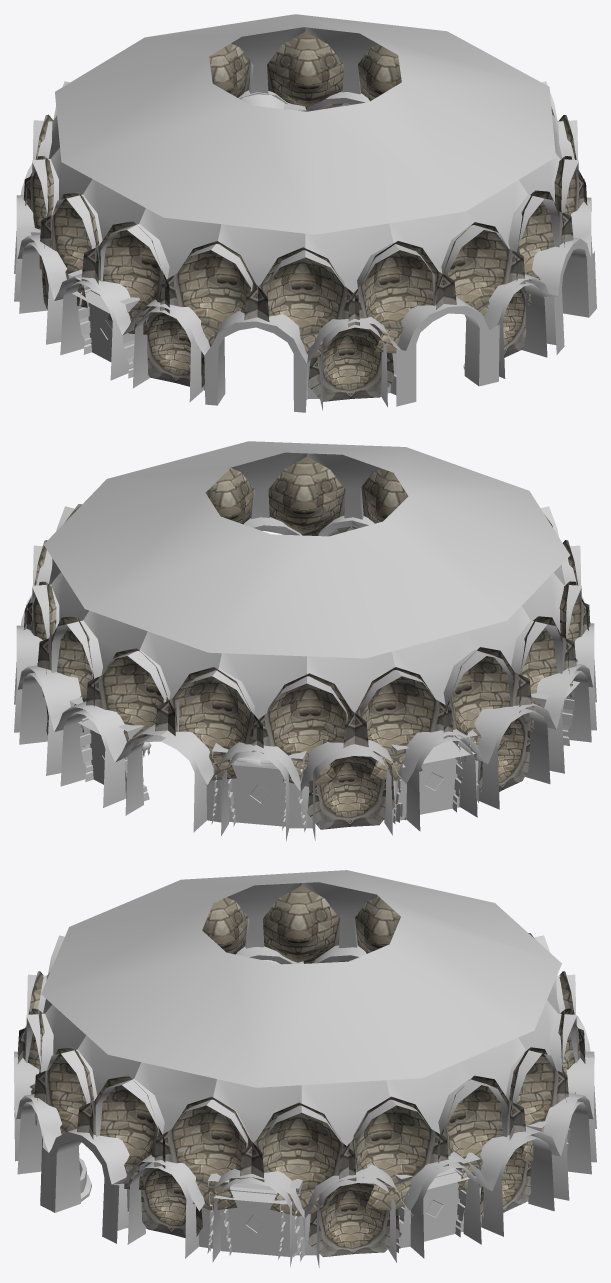
File: Lv_6_dating_1b.FBX
3 views of the same model, one above another, from view 1: azimuth 30°, elevation 25°; view 2: azimuth 150°, elevation 25°; view 3: azimuth 270°, elevation 25° (orthographic).
Parts seen in each view (by area): view 1: Object040, DN_tushuguan_dating007, Object041, Object039, DN_tushuguan_dating005, Object038, Object043, Object035, Object042, Object032, Object034, Object037; view 2: Object040, Object043, Object042, Object033, Object034, Object032, DN_tushuguan_dating007, Object038, Object041, Object035, Object037, DN_tushuguan_dating005; view 3: Object040, Object041, Object042, Object036, Object037, Object035, Object032, Object038, Object043, DN_tushuguan_dating007, DN_tushuguan_dating005, Object034.
Boxes of the visible parts, x1=… form: Object040: x1=55, y1=14, x2=555, y2=234; DN_tushuguan_dating007: x1=54, y1=179, x2=448, y2=412; Object041: x1=389, y1=81, x2=596, y2=386; Object039: x1=244, y1=241, x2=456, y2=401; DN_tushuguan_dating005: x1=81, y1=221, x2=269, y2=387; Object038: x1=436, y1=190, x2=573, y2=357; Object043: x1=14, y1=81, x2=92, y2=344; Object035: x1=267, y1=31, x2=401, y2=109; Object042: x1=222, y1=25, x2=377, y2=111; Object032: x1=23, y1=156, x2=99, y2=309; Object034: x1=209, y1=43, x2=251, y2=97; Object037: x1=554, y1=115, x2=587, y2=247; Object040: x1=44, y1=441, x2=570, y2=658; Object043: x1=161, y1=606, x2=556, y2=841; Object042: x1=14, y1=506, x2=221, y2=815; Object033: x1=252, y1=667, x2=453, y2=829; Object034: x1=86, y1=648, x2=263, y2=780; Object032: x1=443, y1=616, x2=576, y2=792; DN_tushuguan_dating007: x1=522, y1=506, x2=596, y2=773; Object038: x1=268, y1=456, x2=408, y2=536; Object041: x1=231, y1=452, x2=380, y2=536; Object035: x1=26, y1=581, x2=94, y2=735; Object037: x1=205, y1=468, x2=254, y2=524; DN_tushuguan_dating005: x1=559, y1=540, x2=590, y2=697; Object040: x1=41, y1=870, x2=561, y2=1087; Object041: x1=14, y1=972, x2=304, y2=1266; Object042: x1=293, y1=974, x2=596, y2=1267; Object036: x1=239, y1=1096, x2=448, y2=1257; Object037: x1=77, y1=1075, x2=264, y2=1238; Object035: x1=438, y1=1047, x2=568, y2=1216; Object032: x1=263, y1=885, x2=400, y2=963; Object038: x1=17, y1=1008, x2=93, y2=1146; Object043: x1=301, y1=882, x2=596, y2=1128; DN_tushuguan_dating007: x1=14, y1=883, x2=303, y2=1057; DN_tushuguan_dating005: x1=202, y1=897, x2=248, y2=954; Object034: x1=558, y1=971, x2=585, y2=1101.
Size of the model in its own units: 5488 by 2326 by 5487.
